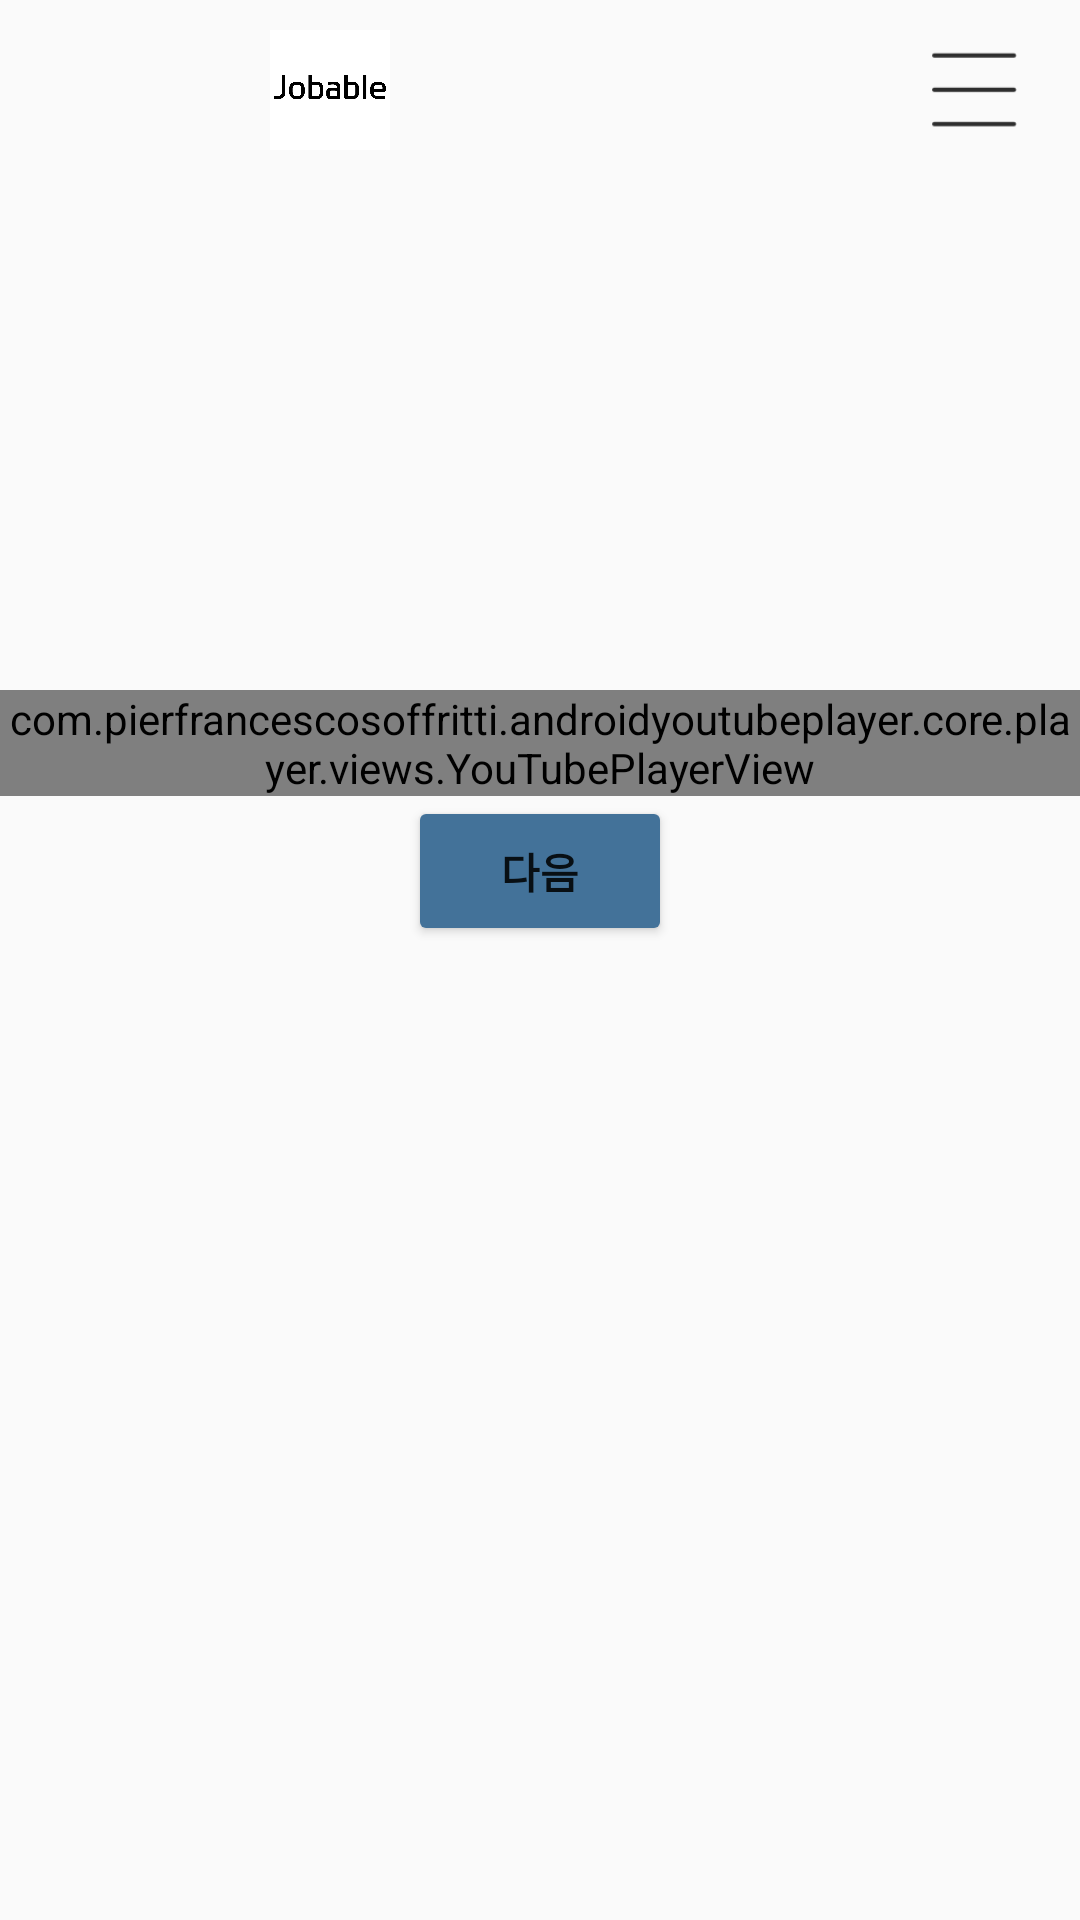

Named icons in this screenshot (1080px x 1920px) and their centers, point (x, y):
menu: point (974, 90)
